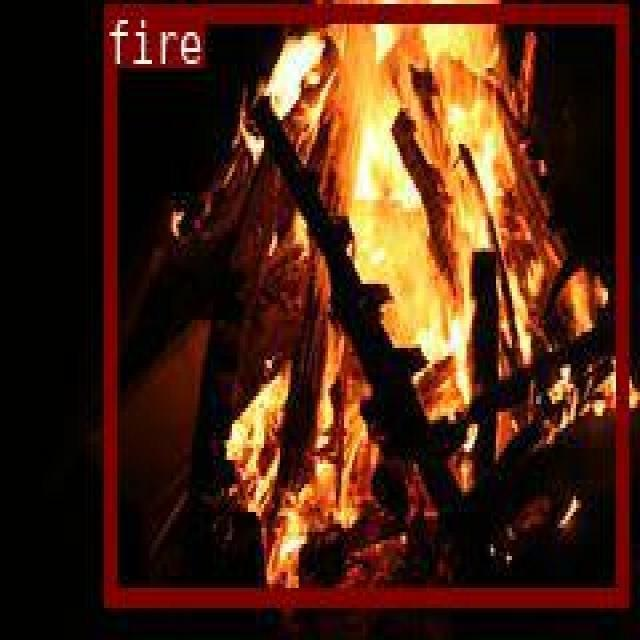fire: (103, 4, 627, 604)
